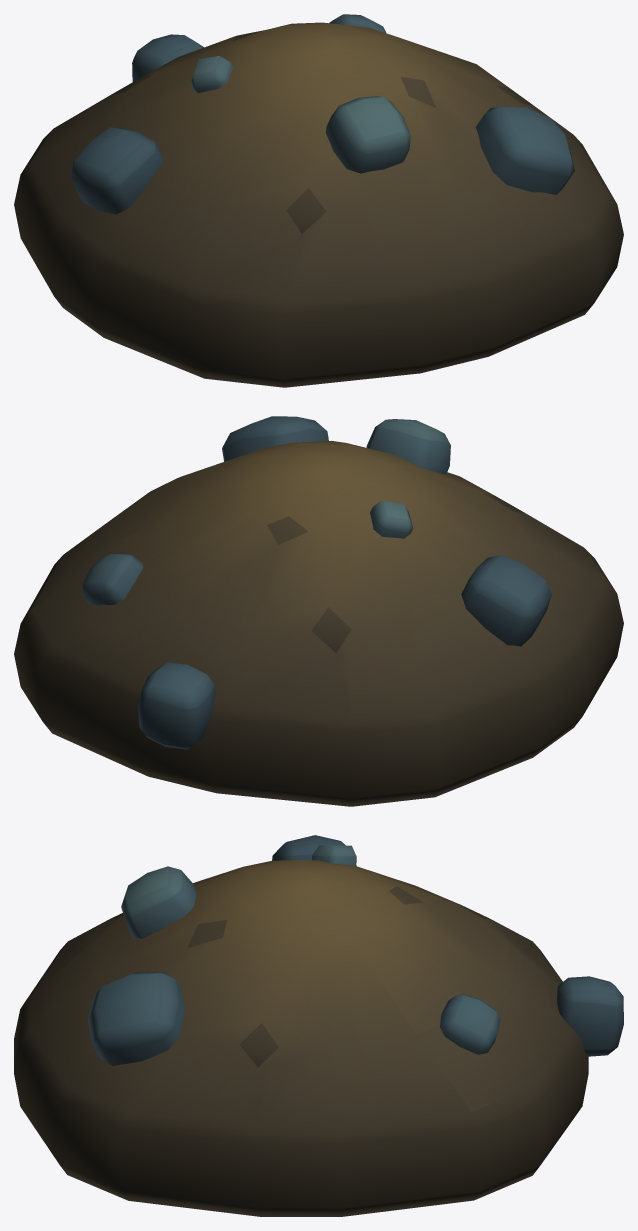
Rendered from earth_pile_LOD_setup.fbx.
The picture shows the model from 3 angles, top to bottom: view 1: azimuth 30°, elevation 25°; view 2: azimuth 150°, elevation 25°; view 3: azimuth 270°, elevation 25°; orthographic projection.
Visible parts, largest first — view 1: earth_pile_LOD0; view 2: earth_pile_LOD0; view 3: earth_pile_LOD0.
Part boxes in pixels (x1,y1,x2,y2): earth_pile_LOD0: (14,14,623,387); earth_pile_LOD0: (14,416,623,806); earth_pile_LOD0: (14,835,623,1216).
Size of what is drawn, in the model's own units: 177 by 75.56 by 188.
